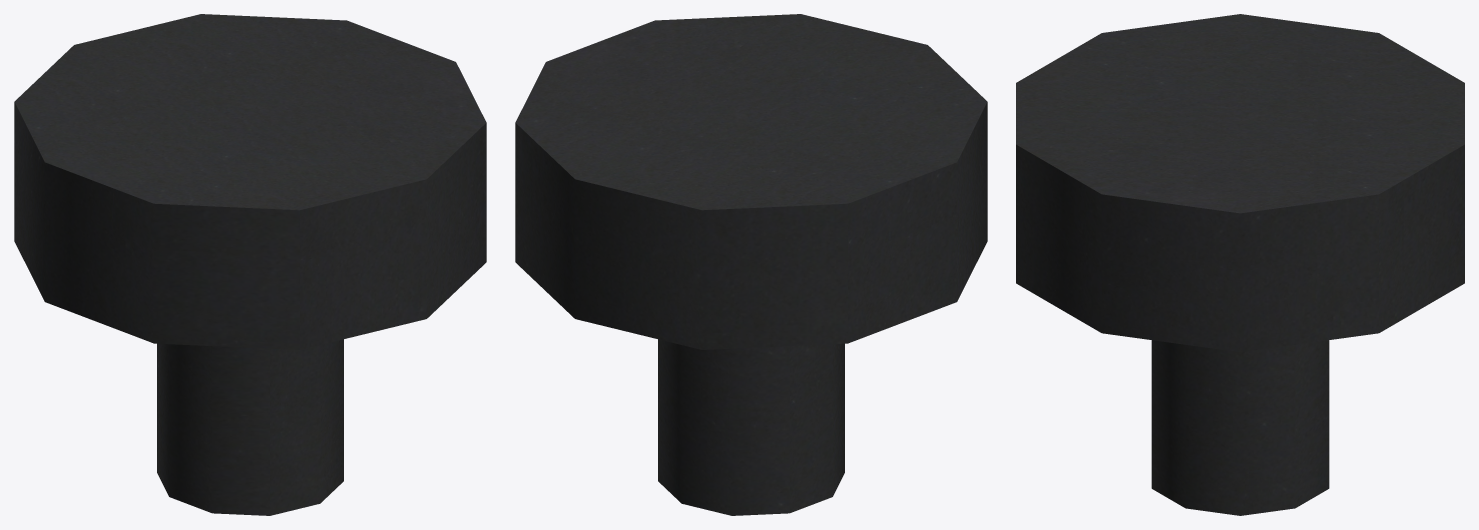
File: Screw.dae
3 renders of one model, left to right at view 1: azimuth 30°, elevation 25°; view 2: azimuth 150°, elevation 25°; view 3: azimuth 270°, elevation 25°, orthographic.
Parts seen in each view (by area): view 1: Screw; view 2: Screw; view 3: Screw.
Part boxes in pixels (box(x1,y1,x2,y2)): Screw: box(14, 14, 486, 515); Screw: box(515, 14, 987, 515); Screw: box(1016, 14, 1464, 515).
Size of the model in its own units: 0.00901 by 0.00857 by 0.00765.
Materials: 1 (1 with a texture image).
